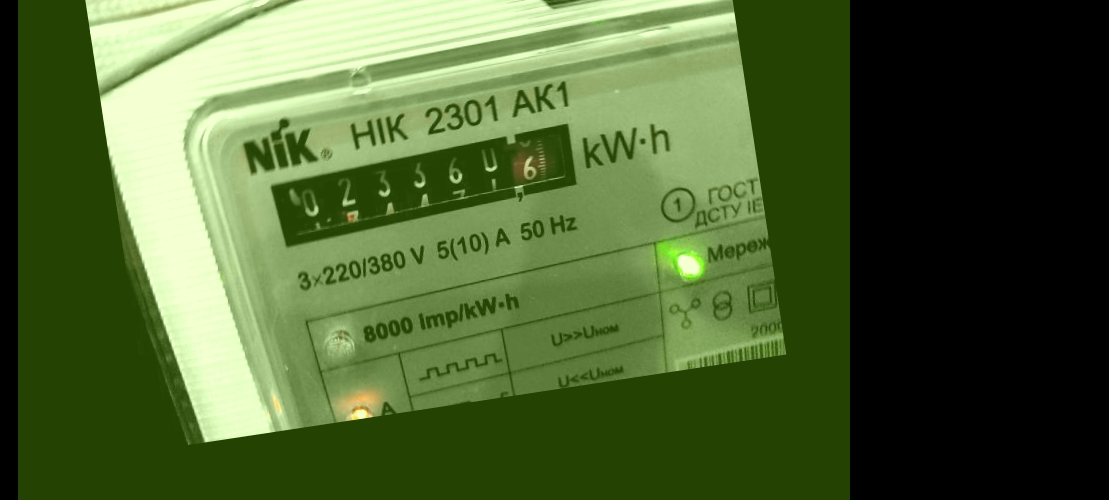0: (296, 182, 323, 219), (475, 141, 502, 175)
2: (334, 172, 359, 207)
3: (406, 154, 430, 189), (370, 165, 393, 199)
6: (441, 150, 467, 186), (517, 148, 542, 184)
screen: (250, 110, 599, 255)
